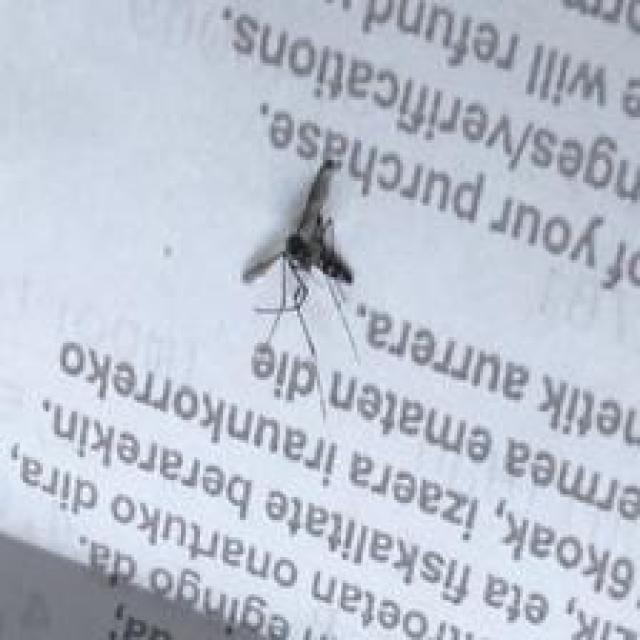Aedes albopictus: (240, 157, 360, 366)
